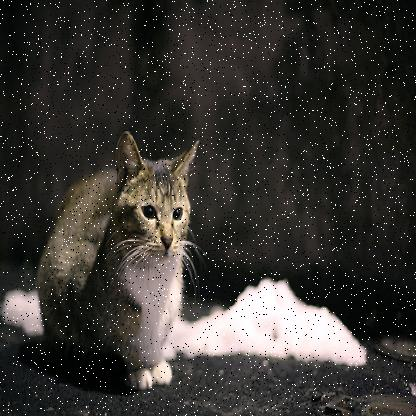cat: (44, 120, 208, 391)
